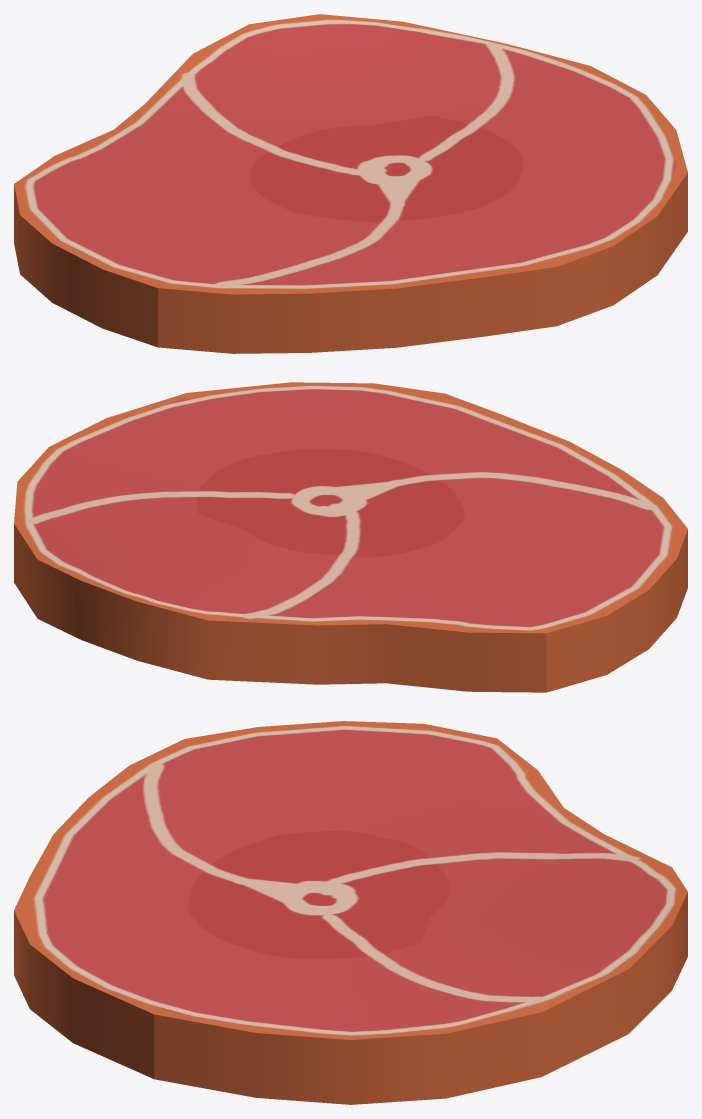
The model's file is Meat.fbx.
The picture shows the model from 3 angles, top to bottom: view 1: azimuth 30°, elevation 25°; view 2: azimuth 150°, elevation 25°; view 3: azimuth 270°, elevation 25°; orthographic projection. The views are drawn at different scales.
Parts seen in each view (by area): view 1: Meat_mesh; view 2: Meat_mesh; view 3: Meat_mesh.
Boxes of the visible parts, x1,y1,x2,y2 form: Meat_mesh: (14, 14, 687, 353); Meat_mesh: (14, 382, 687, 692); Meat_mesh: (14, 721, 687, 1104).
Bounding box in the file's own units: 17.15 × 2.09 × 15.31.
